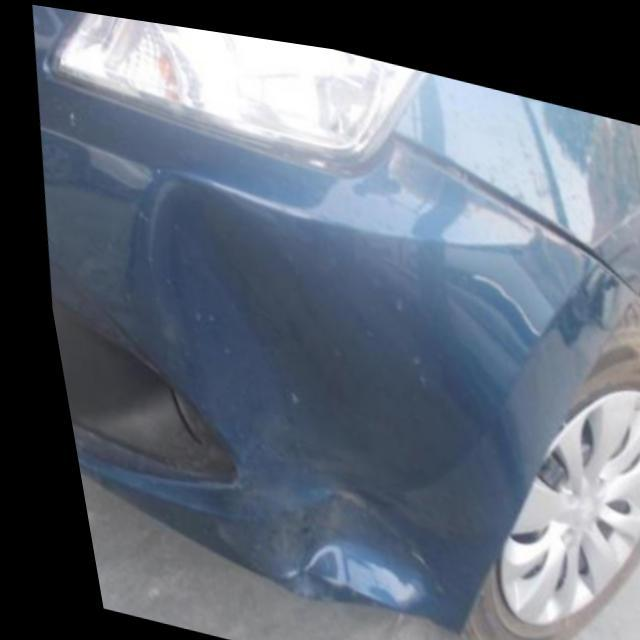dent: (142, 180, 449, 612)
